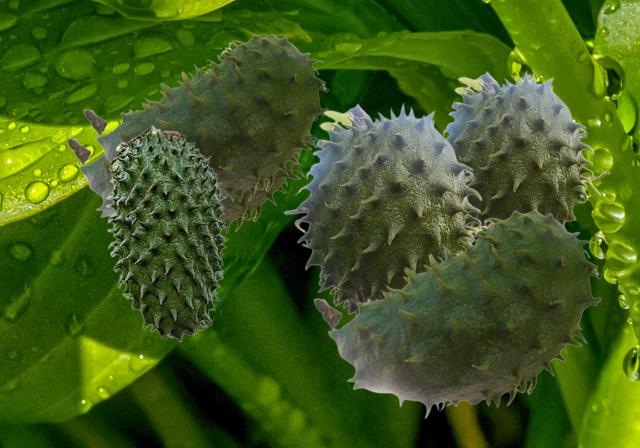guyabano: (313, 210, 601, 418), (283, 101, 492, 316), (83, 34, 328, 202), (442, 69, 610, 243), (66, 117, 317, 233), (105, 124, 228, 341)
